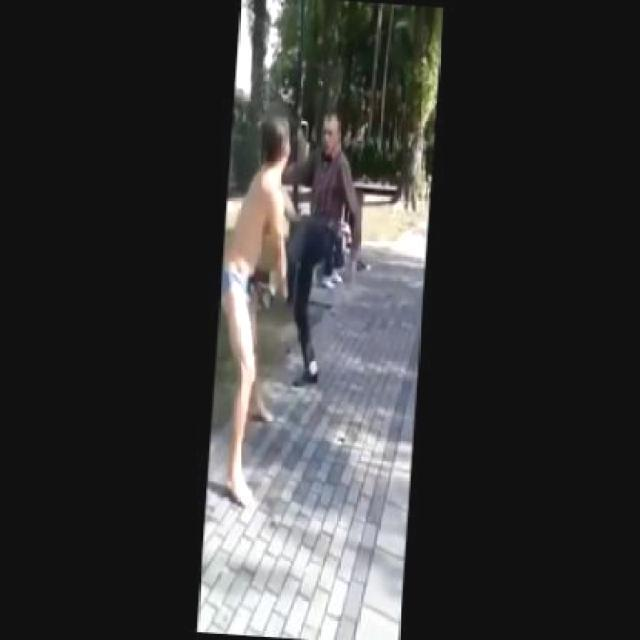fight: (216, 105, 372, 392)
